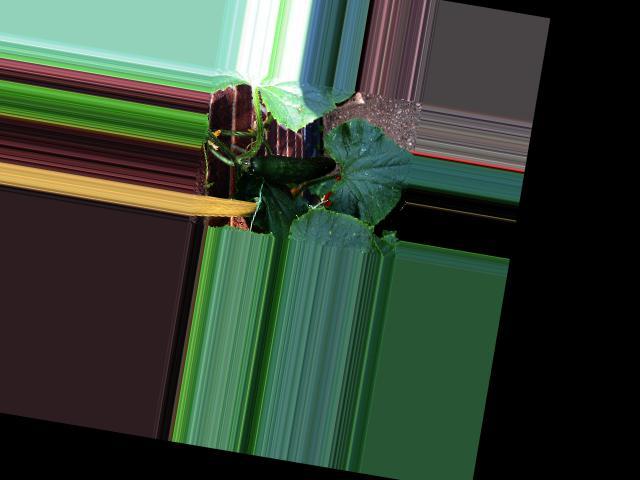cucumber: (246, 143, 337, 191)
